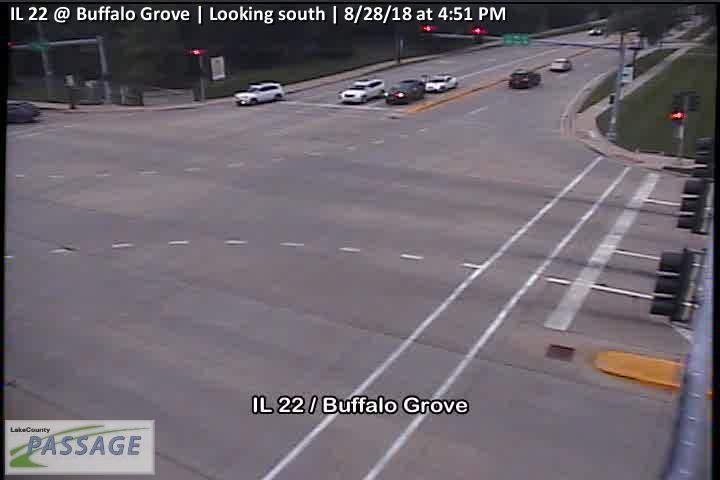SUV: (233, 81, 285, 106), (339, 79, 384, 104), (383, 77, 424, 104), (7, 100, 41, 123), (508, 69, 542, 89), (551, 57, 571, 72)
Sedan: (424, 75, 457, 93)
